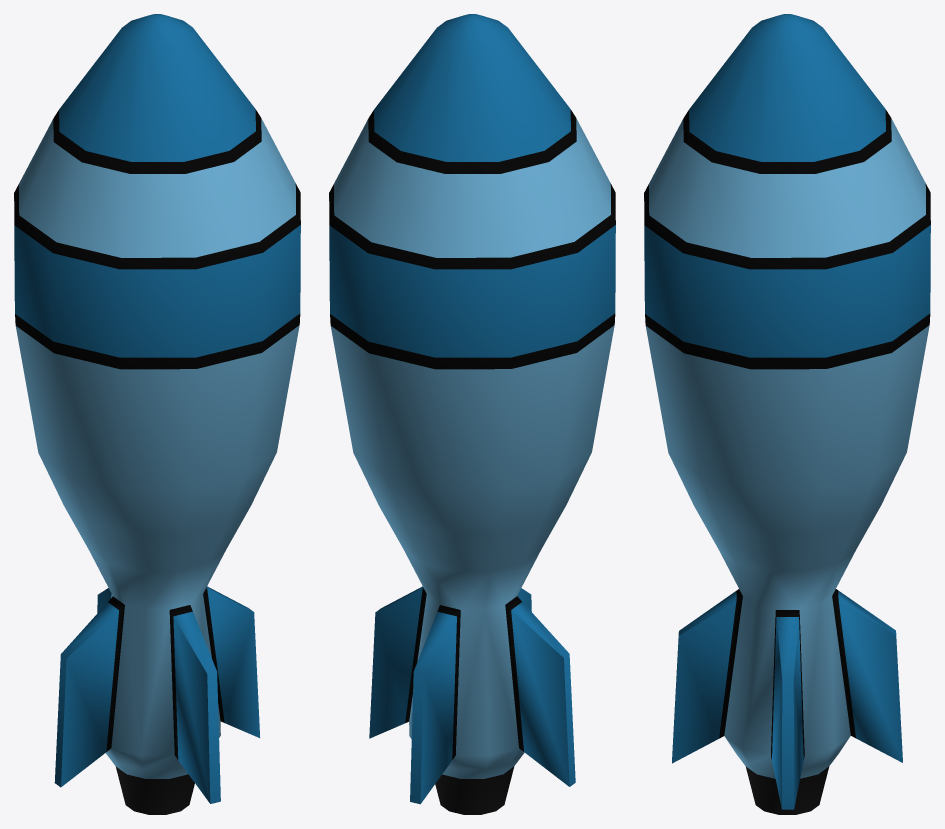
File: Rocket01_Blue.fbx
The picture shows the model from 3 angles, left to right: view 1: azimuth 30°, elevation 25°; view 2: azimuth 150°, elevation 25°; view 3: azimuth 270°, elevation 25°; orthographic projection.
Visible parts, largest first — view 1: Rocket01_Blue; view 2: Rocket01_Blue; view 3: Rocket01_Blue.
Boxes of the visible parts, bbox=[...] form: Rocket01_Blue: bbox=[14, 14, 300, 814]; Rocket01_Blue: bbox=[329, 14, 615, 814]; Rocket01_Blue: bbox=[644, 14, 930, 814].
Bounding box in the file's own units: 325 × 981 × 325.
1 material, 1 textured.
